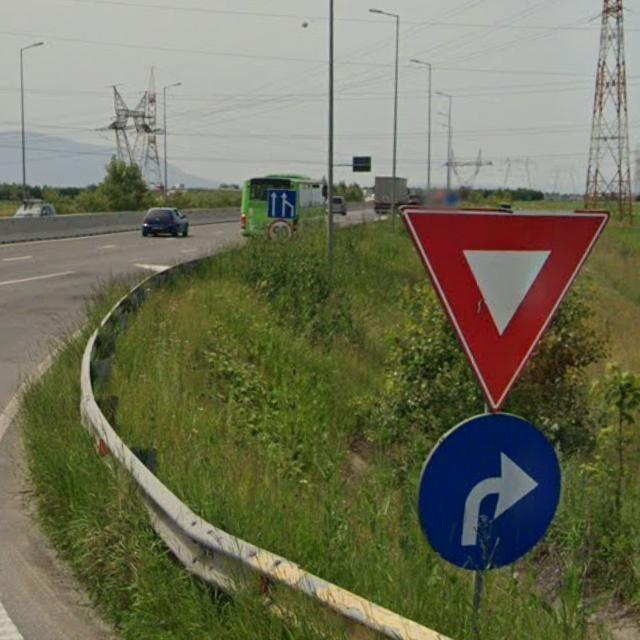prio_give_way: (397, 204, 610, 415)
